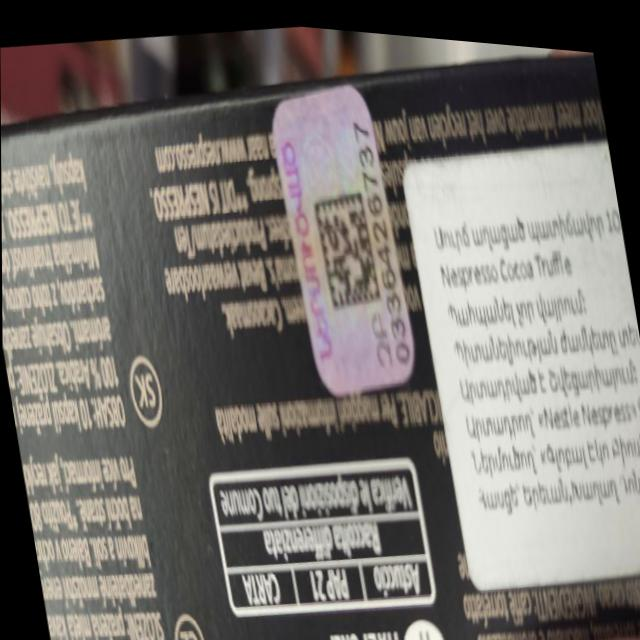datamatrix: (309, 172, 384, 310)
